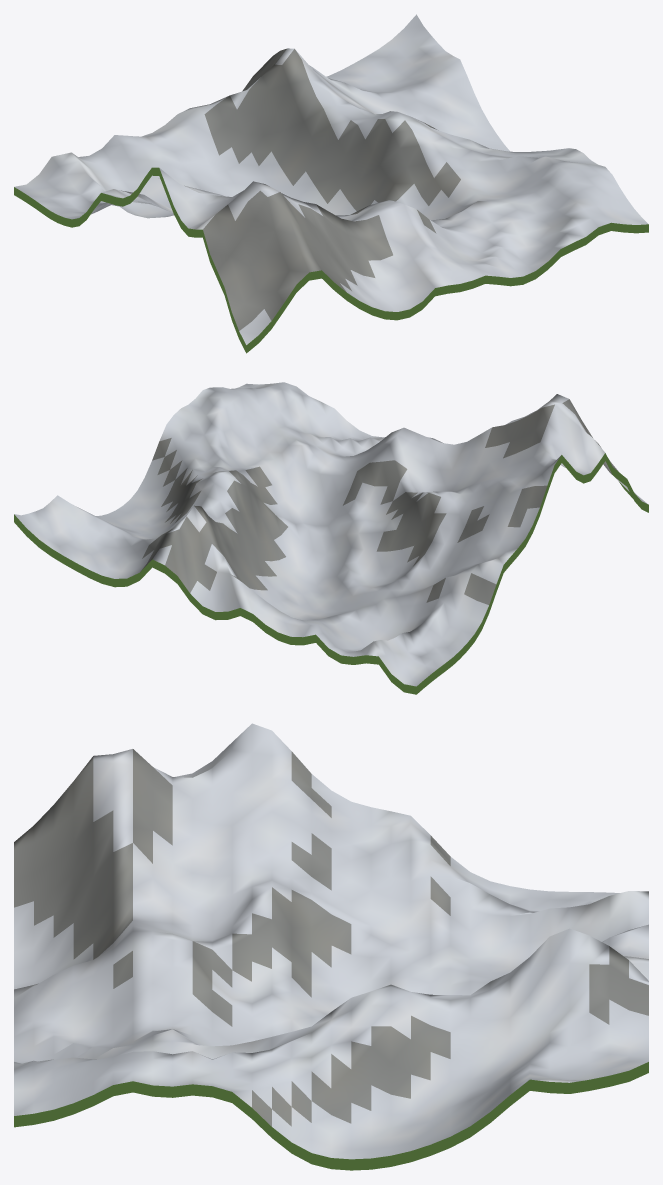
Rendered from chunk_5_0_lod1.glb.
The picture shows the model from 3 angles, top to bottom: view 1: azimuth 30°, elevation 25°; view 2: azimuth 150°, elevation 25°; view 3: azimuth 270°, elevation 25°; orthographic projection. The views are drawn at different scales.
Visible parts, largest first — view 1: Surface_Snow, Surface_Gravel, Skirt; view 2: Surface_Snow, Surface_Gravel, Skirt; view 3: Surface_Snow, Surface_Gravel, Skirt.
Part boxes in pixels (<box>): Surface_Snow: <box>14,14,648,344</box>; Surface_Gravel: <box>203,48,460,330</box>; Skirt: <box>14,167,648,353</box>; Surface_Snow: <box>14,382,648,686</box>; Surface_Gravel: <box>140,399,620,604</box>; Skirt: <box>14,453,648,694</box>; Surface_Snow: <box>14,723,648,1159</box>; Surface_Gravel: <box>14,749,648,1126</box>; Skirt: <box>14,1062,648,1170</box>.
Size of the model in its own units: 256 by 93.71 by 256.
